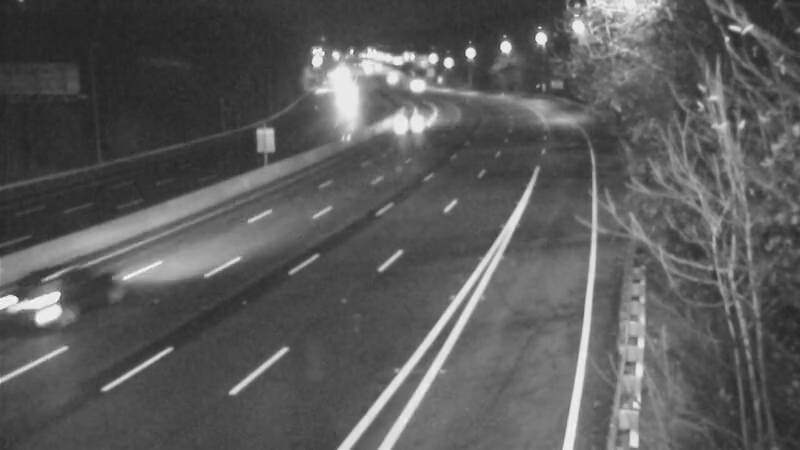vehicle: (9, 254, 89, 334), (388, 59, 438, 109), (370, 94, 420, 144), (324, 72, 374, 122)
